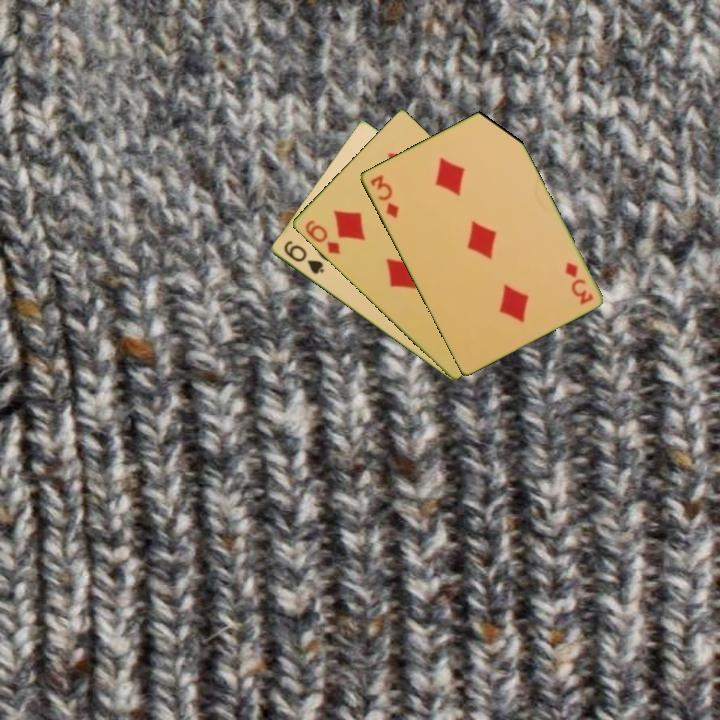3d: (366, 171, 401, 221), (561, 258, 595, 307)
6d: (301, 216, 343, 257)
6s: (279, 237, 327, 277)
